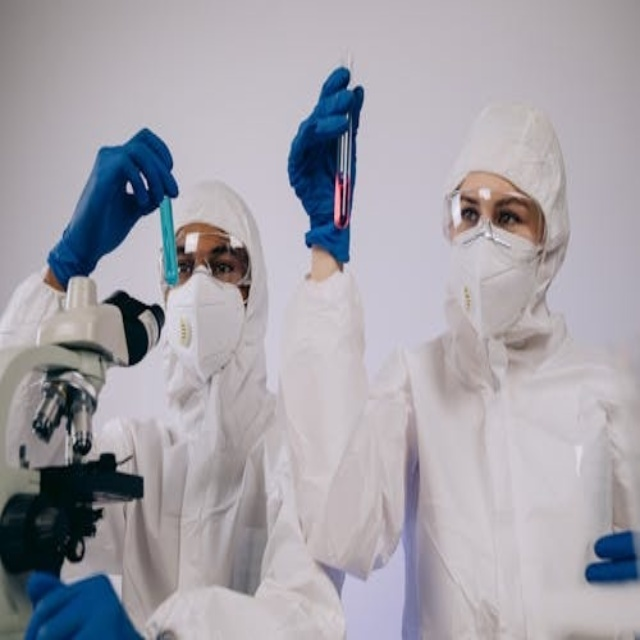Gafas: (441, 188, 539, 252), (161, 236, 253, 292)
Guantes: (41, 115, 180, 283), (280, 67, 370, 263)
Mascara: (444, 207, 545, 343), (163, 269, 246, 379)
